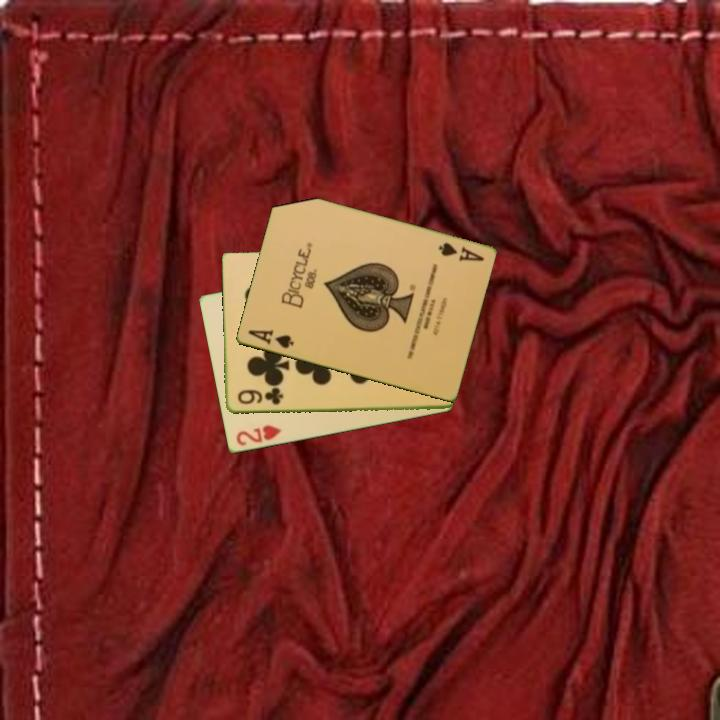2h: (232, 422, 284, 449)
9c: (234, 387, 286, 408)
As: (434, 239, 487, 264), (244, 327, 296, 352)
